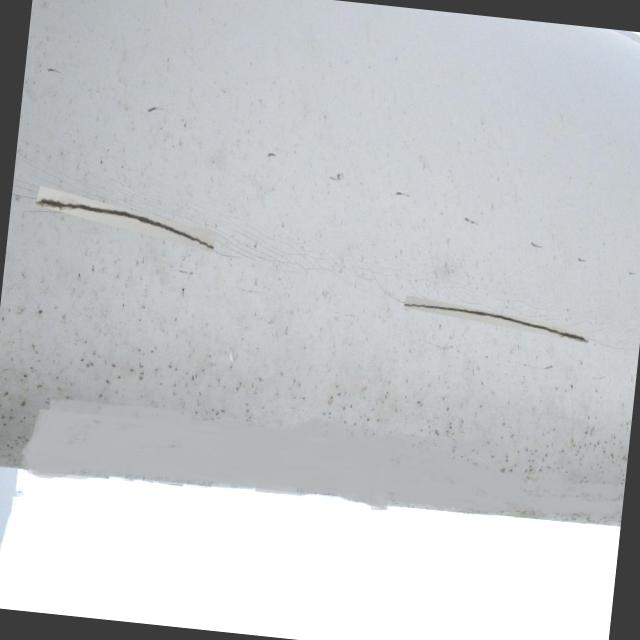crack: (34, 190, 218, 252), (400, 298, 586, 344)
